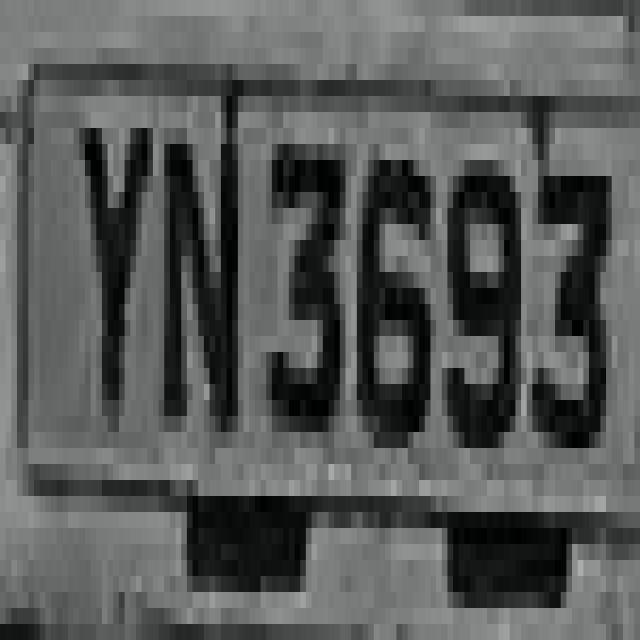3: (249, 80, 340, 464), (521, 128, 606, 512)
6: (340, 128, 430, 464)
9: (436, 144, 521, 480)
N: (142, 48, 249, 480)
Y: (62, 48, 159, 448)
